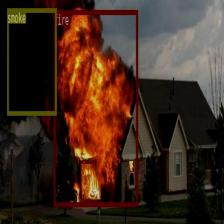fire: (53, 10, 138, 205)
smoke: (7, 8, 56, 115)
